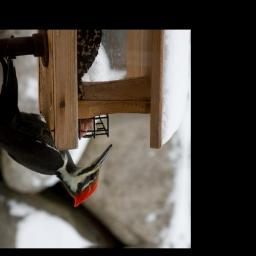Woodpecker: (0, 48, 117, 218)
